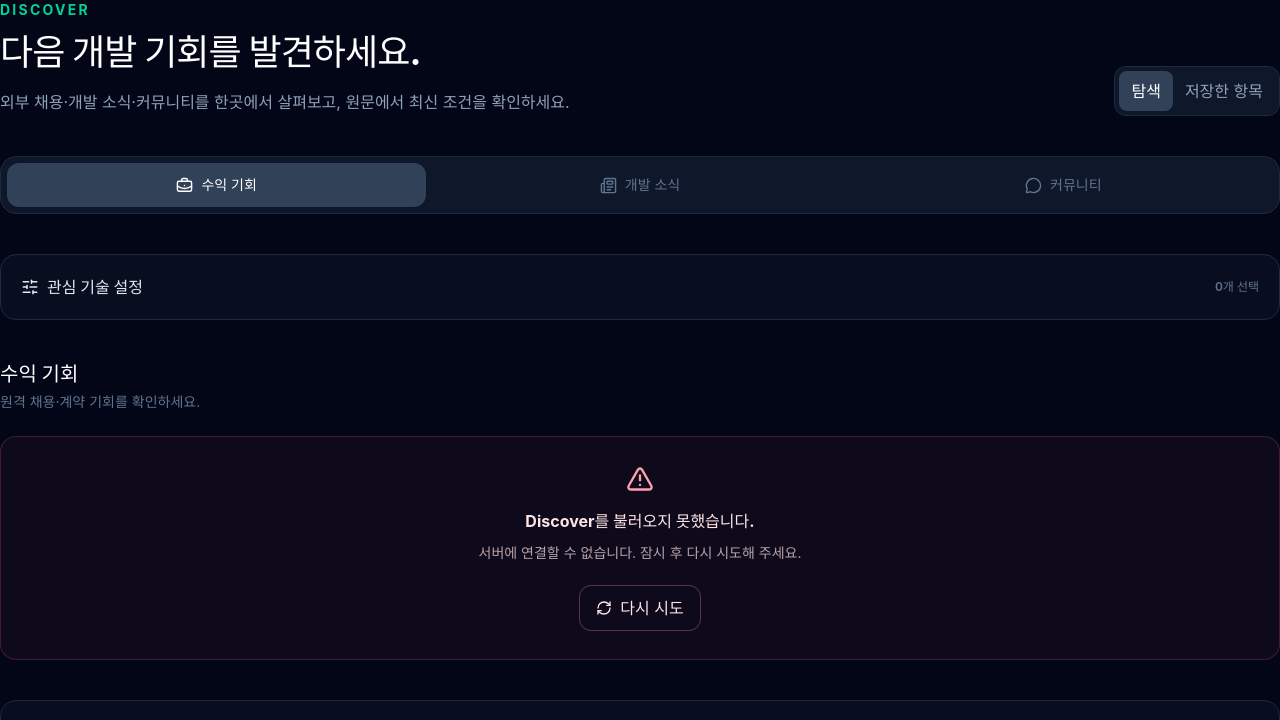
Scenario: Discover page › shows a retryable initial request error
The image size is (1280, 720).
expect the message shows "Discover를 불러오지 못했습니다.": met, box x1=525 y1=511 x2=755 y2=531
expect the message shows "서버에 연결할 수 없습니다.": met, box x1=478 y1=544 x2=801 y2=561
Click the button "다시 시도" at (640, 608), box x1=579 y1=585 x2=701 y2=631
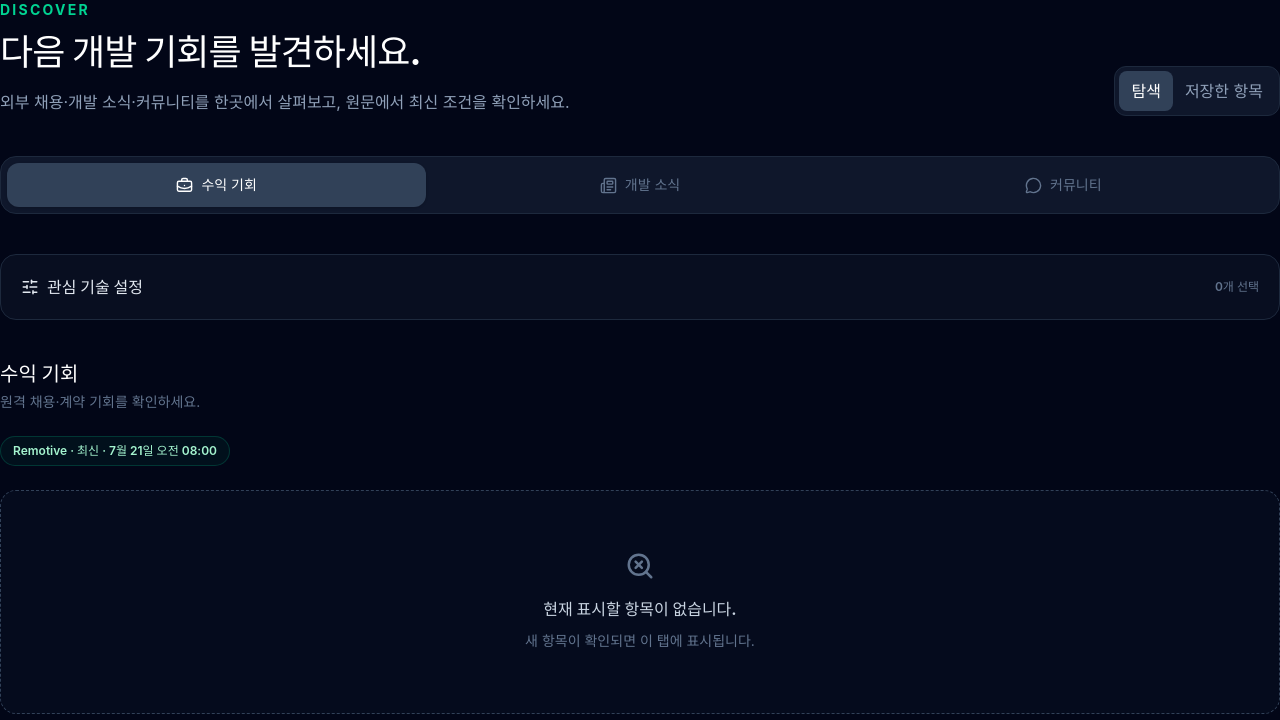
expect the text "현재 표시할 항목이 없습니다." is shown: met, box x1=543 y1=599 x2=737 y2=619
